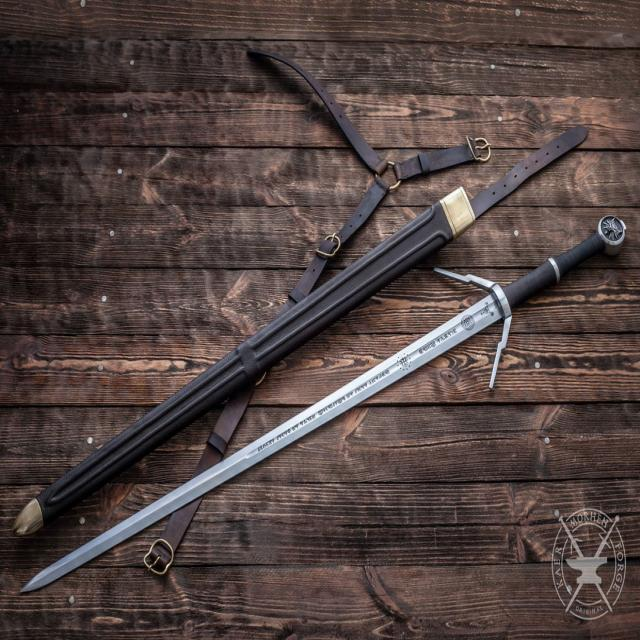scabbard: (9, 177, 487, 534)
sword: (17, 208, 627, 600)
